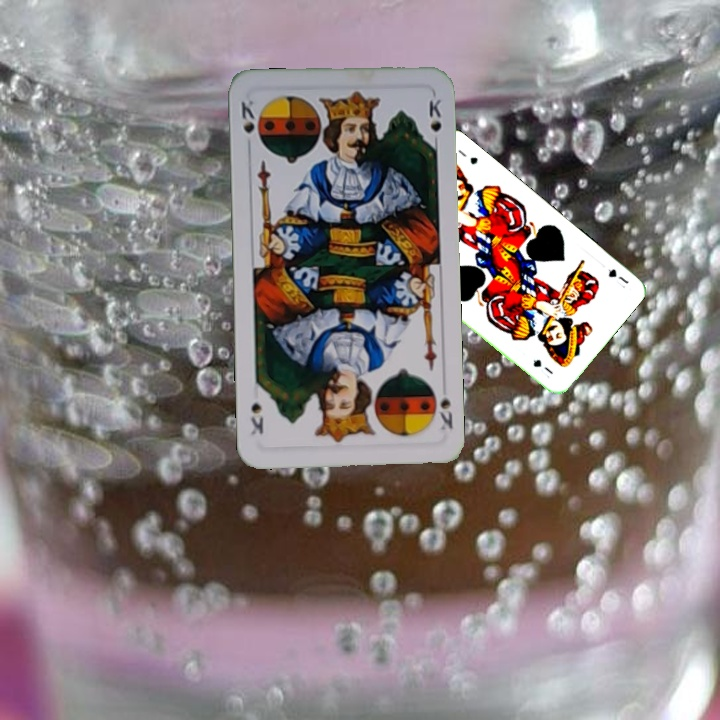GU: (604, 265, 631, 291)
SK: (434, 393, 456, 433), (237, 95, 257, 136)
